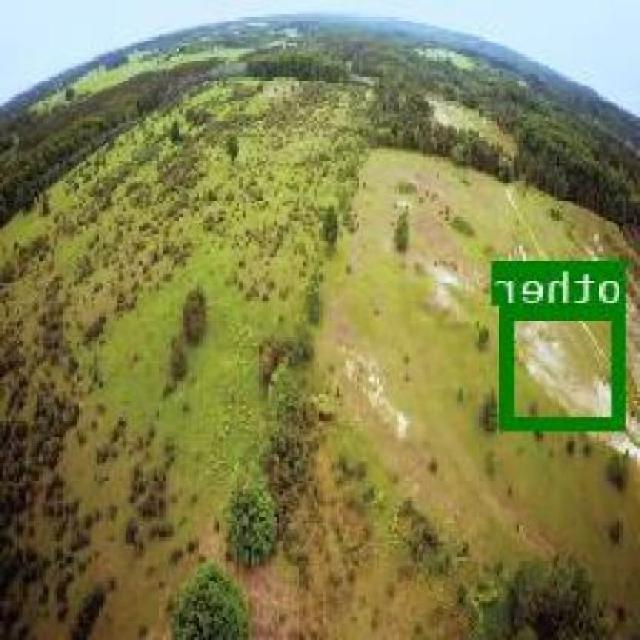other: (504, 304, 626, 428)
